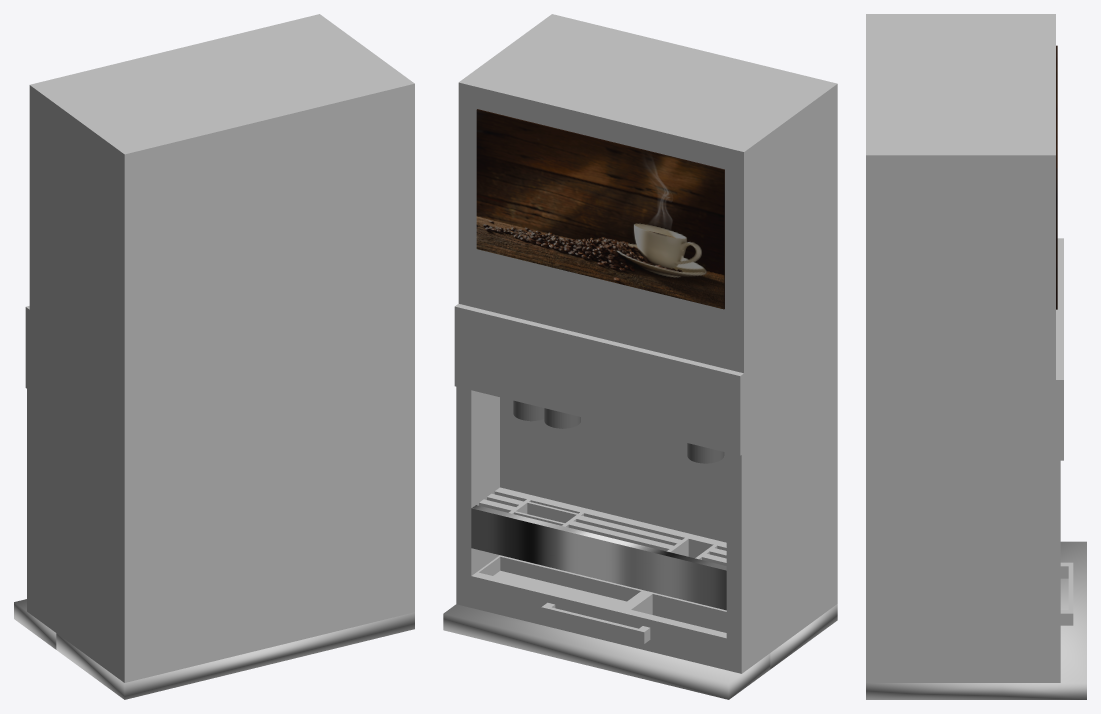
Rendered from NivelHospital9.fbx.
3 views of the same model, side by side, from view 1: azimuth 30°, elevation 25°; view 2: azimuth 150°, elevation 25°; view 3: azimuth 270°, elevation 25° (orthographic).
Parts seen in each view (by area): view 1: Cylinder; view 2: Cylinder; view 3: Cylinder.
Boxes of the visible parts, x1,y1,x2,y2 form: Cylinder: (14, 14, 414, 699); Cylinder: (443, 14, 837, 699); Cylinder: (866, 14, 1086, 699).
Size of the model in its own units: 68.07 by 122 by 44.91.
